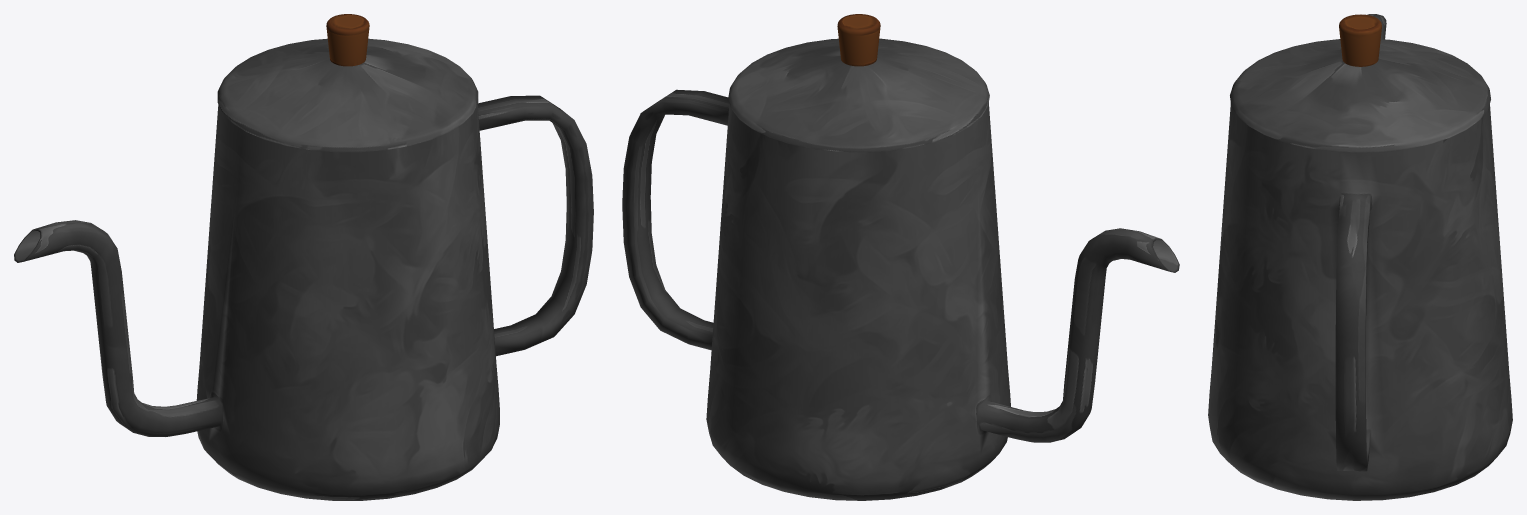
File: kettle.glb
The picture shows the model from 3 angles, left to right: view 1: azimuth 30°, elevation 25°; view 2: azimuth 150°, elevation 25°; view 3: azimuth 270°, elevation 25°; orthographic projection.
Visible parts, largest first — view 1: Cylinder.001; view 2: Cylinder.001; view 3: Cylinder.001.
Part boxes in pixels (x1,y1,x2,y2): Cylinder.001: [14, 14, 593, 500]; Cylinder.001: [622, 14, 1179, 500]; Cylinder.001: [1208, 14, 1512, 500].
Bounding box in the file's own units: 0.4223 × 0.3053 × 0.1996.
2 materials, 2 textured.
